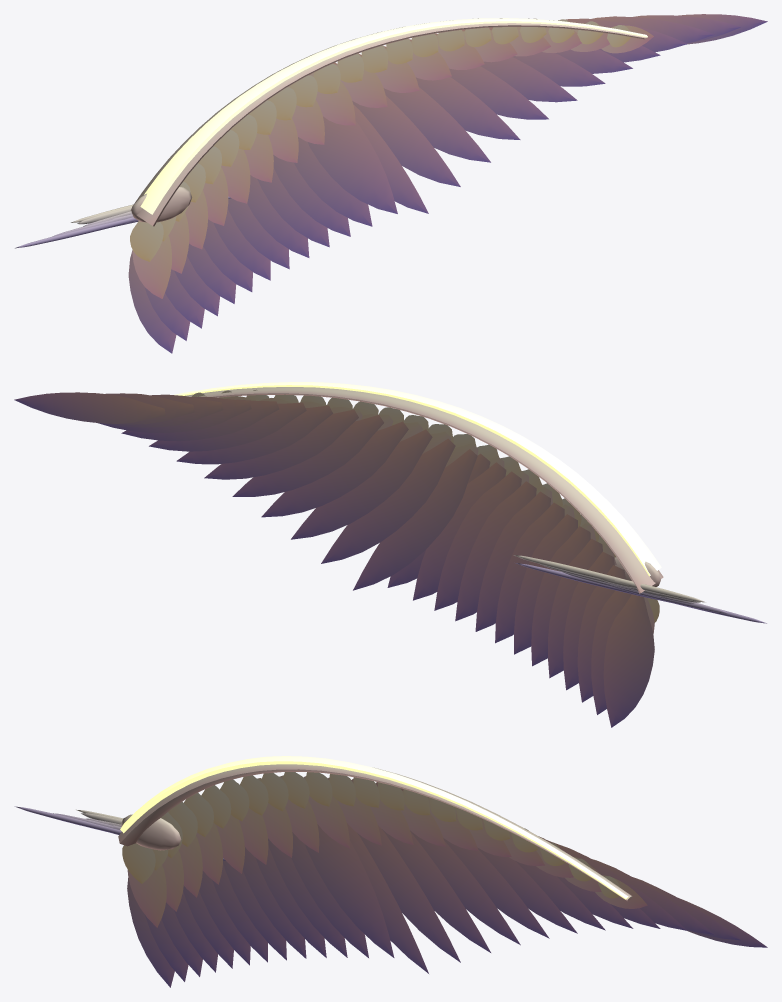
File: sky-jFWmfdmq.glb
3 renders of one model, top to bottom at view 1: azimuth 30°, elevation 25°; view 2: azimuth 150°, elevation 25°; view 3: azimuth 330°, elevation 25°, orthographic.
Visible parts, largest first — view 1: wingCoverts, wingPrimaries, wingSecondaries, wingDawnEdge, wingArm, cloudB; view 2: wingPrimaries, wingSecondaries, wingArm, wingCoverts, wingDawnEdge, cloudB, cloudA; view 3: wingCoverts, wingPrimaries, wingSecondaries, wingArm, wingDawnEdge, cloudB.
Boxes of the visible parts, x1,y1,x2,y2 form: wingCoverts: [130, 18, 653, 298]; wingPrimaries: [309, 14, 767, 213]; wingSecondaries: [128, 116, 397, 353]; wingDawnEdge: [140, 18, 647, 214]; wingArm: [130, 18, 645, 226]; cloudB: [15, 217, 126, 248]; wingPrimaries: [14, 392, 477, 590]; wingSecondaries: [387, 453, 654, 727]; wingArm: [185, 387, 663, 593]; wingCoverts: [191, 389, 659, 633]; wingDawnEdge: [174, 382, 661, 576]; cloudB: [513, 555, 766, 623]; cloudA: [515, 563, 705, 602]; wingCoverts: [122, 772, 647, 927]; wingPrimaries: [328, 778, 767, 973]; wingSecondaries: [127, 824, 394, 987]; wingArm: [118, 764, 632, 900]; wingDawnEdge: [120, 756, 628, 899]; cloudB: [14, 806, 121, 834].
Size of the model in its own units: 187 by 65.47 by 9.2.
